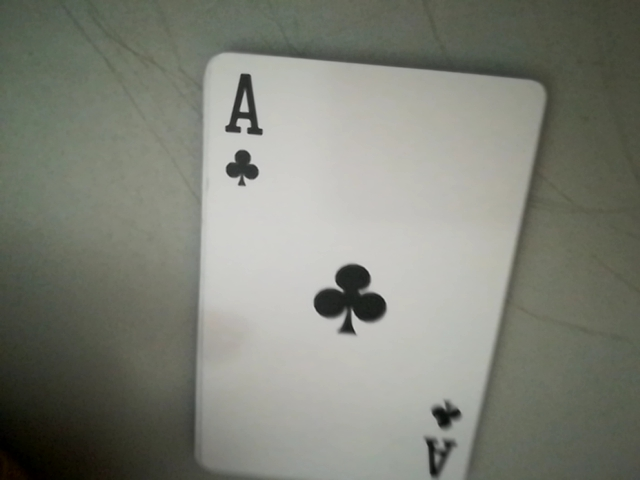mh a: (205, 57, 267, 196), (421, 395, 472, 480)
